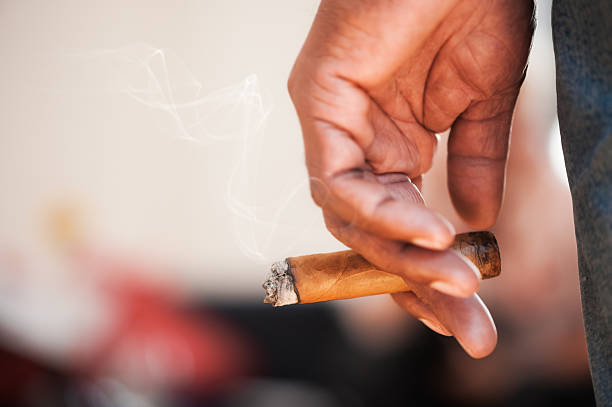cigarette: (262, 232, 499, 306)
